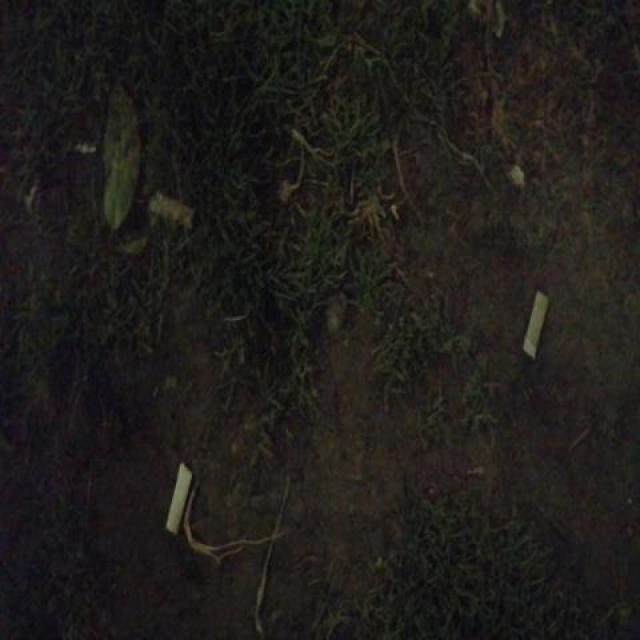non-organic waste: (161, 460, 196, 540), (145, 185, 199, 235), (521, 285, 552, 362)
